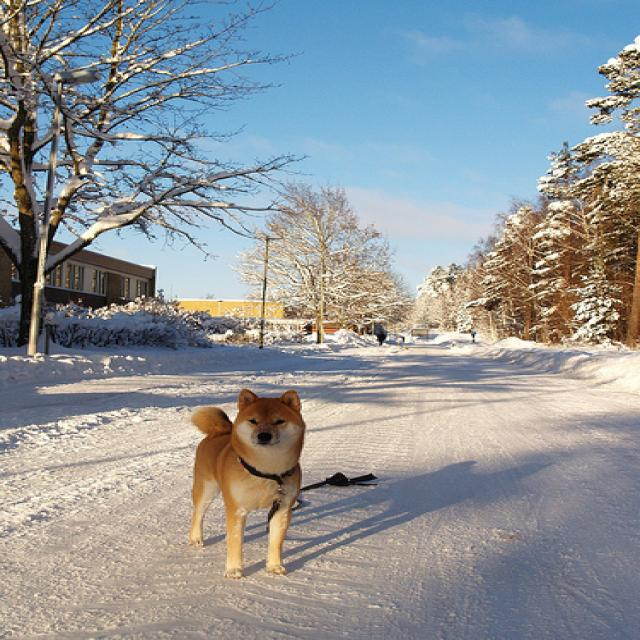dog-shiba_inu: (181, 383, 309, 588)
